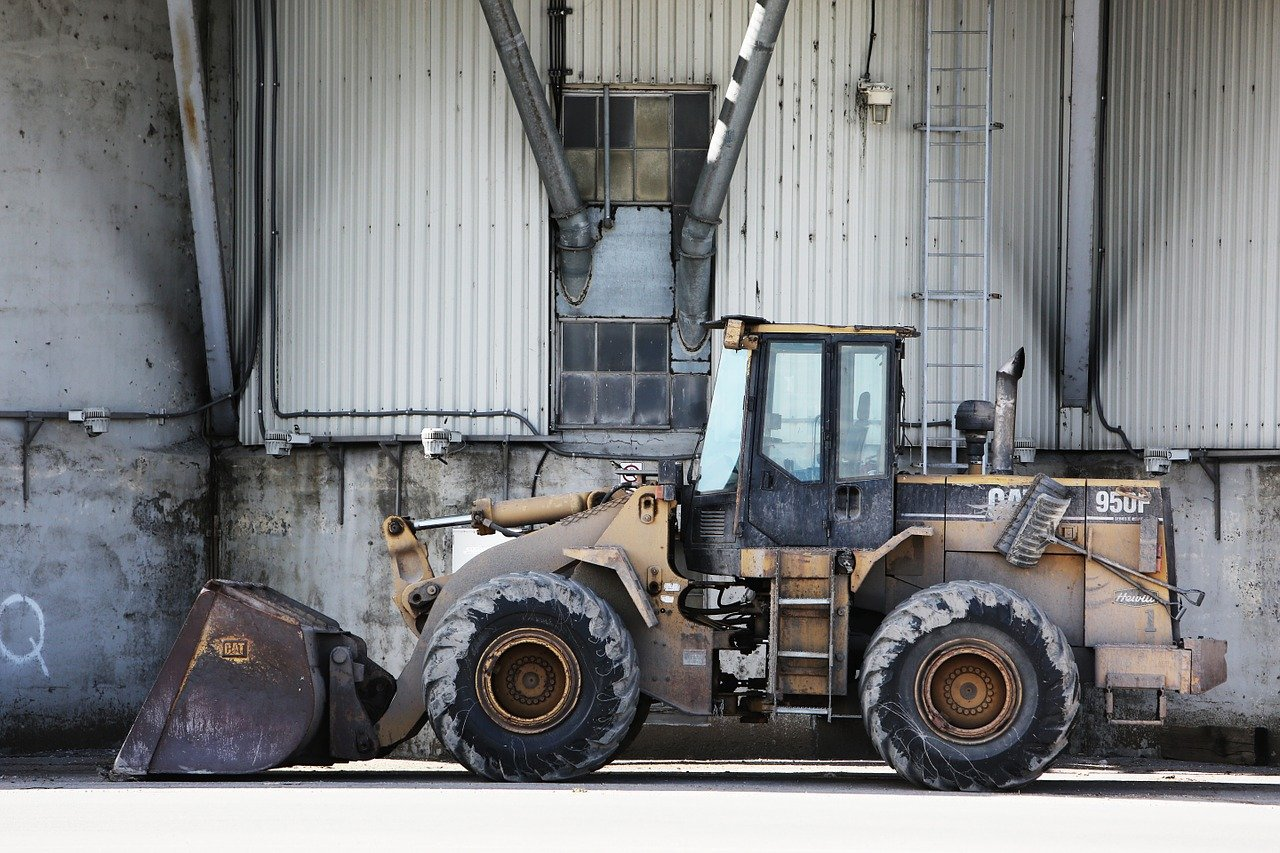bulldozer: (106, 310, 1230, 790)
